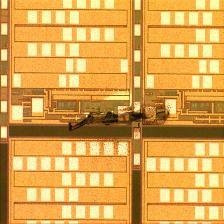PARTICLE: (68, 105, 171, 134)
